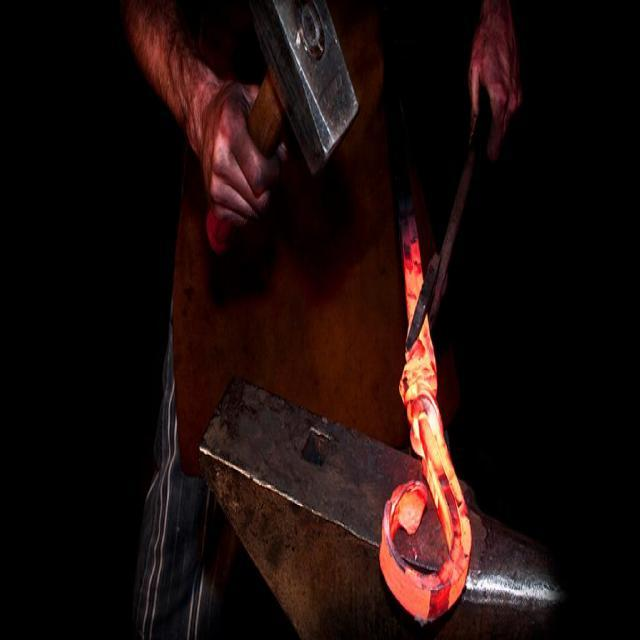hammer: (205, 0, 366, 279)
